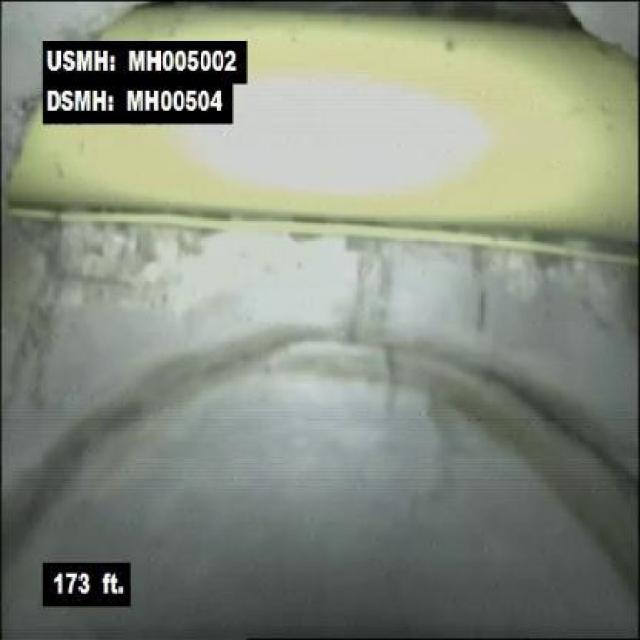Utility intrusion: (4, 3, 638, 269)
